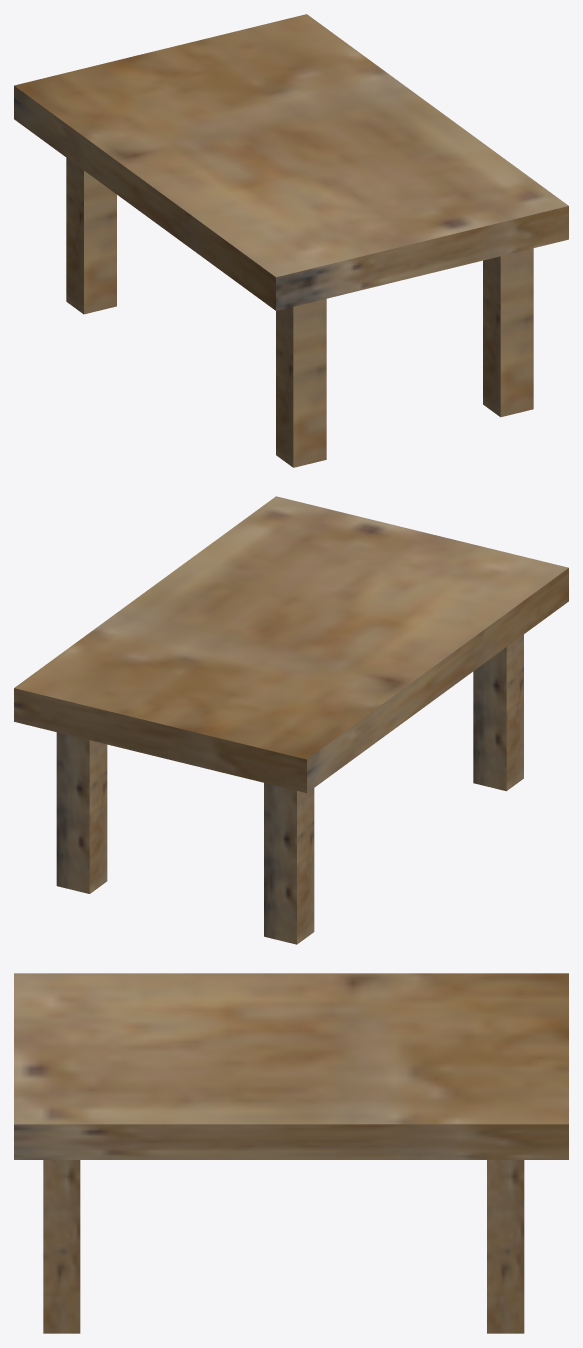
Rendered from stol.glb.
3 views of the same model, one above another, from view 1: azimuth 30°, elevation 25°; view 2: azimuth 150°, elevation 25°; view 3: azimuth 270°, elevation 25° (orthographic). The views are drawn at different scales.
Visible parts, largest first — view 1: Cube.004, Cube, Cube.003, Cube.001; view 2: Cube.004, Cube.002, Cube.001, Cube; view 3: Cube.004, Cube.002, Cube.003.
Part boxes in pixels (bbox=[...]): Cube.004: bbox=[14, 14, 568, 310]; Cube: bbox=[276, 299, 326, 467]; Cube.003: bbox=[483, 248, 533, 417]; Cube.001: bbox=[66, 158, 116, 314]; Cube.004: bbox=[14, 496, 568, 793]; Cube.002: bbox=[56, 732, 107, 893]; Cube.001: bbox=[264, 783, 314, 944]; Cube: bbox=[473, 634, 523, 791]; Cube.004: bbox=[14, 973, 568, 1159]; Cube.002: bbox=[487, 1160, 524, 1333]; Cube.003: bbox=[43, 1160, 80, 1333].
Bounding box in the file's own units: 1.47 × 0.9988 × 2.28.
4 materials, 4 textured.
